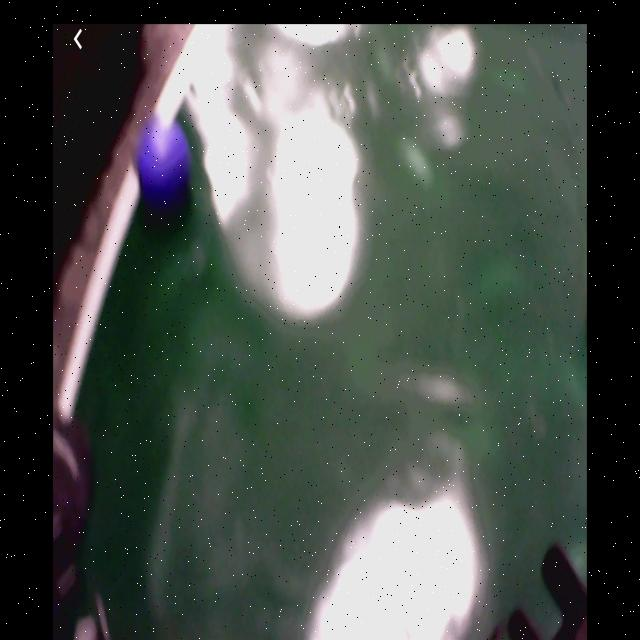ball: (138, 124, 193, 206)
